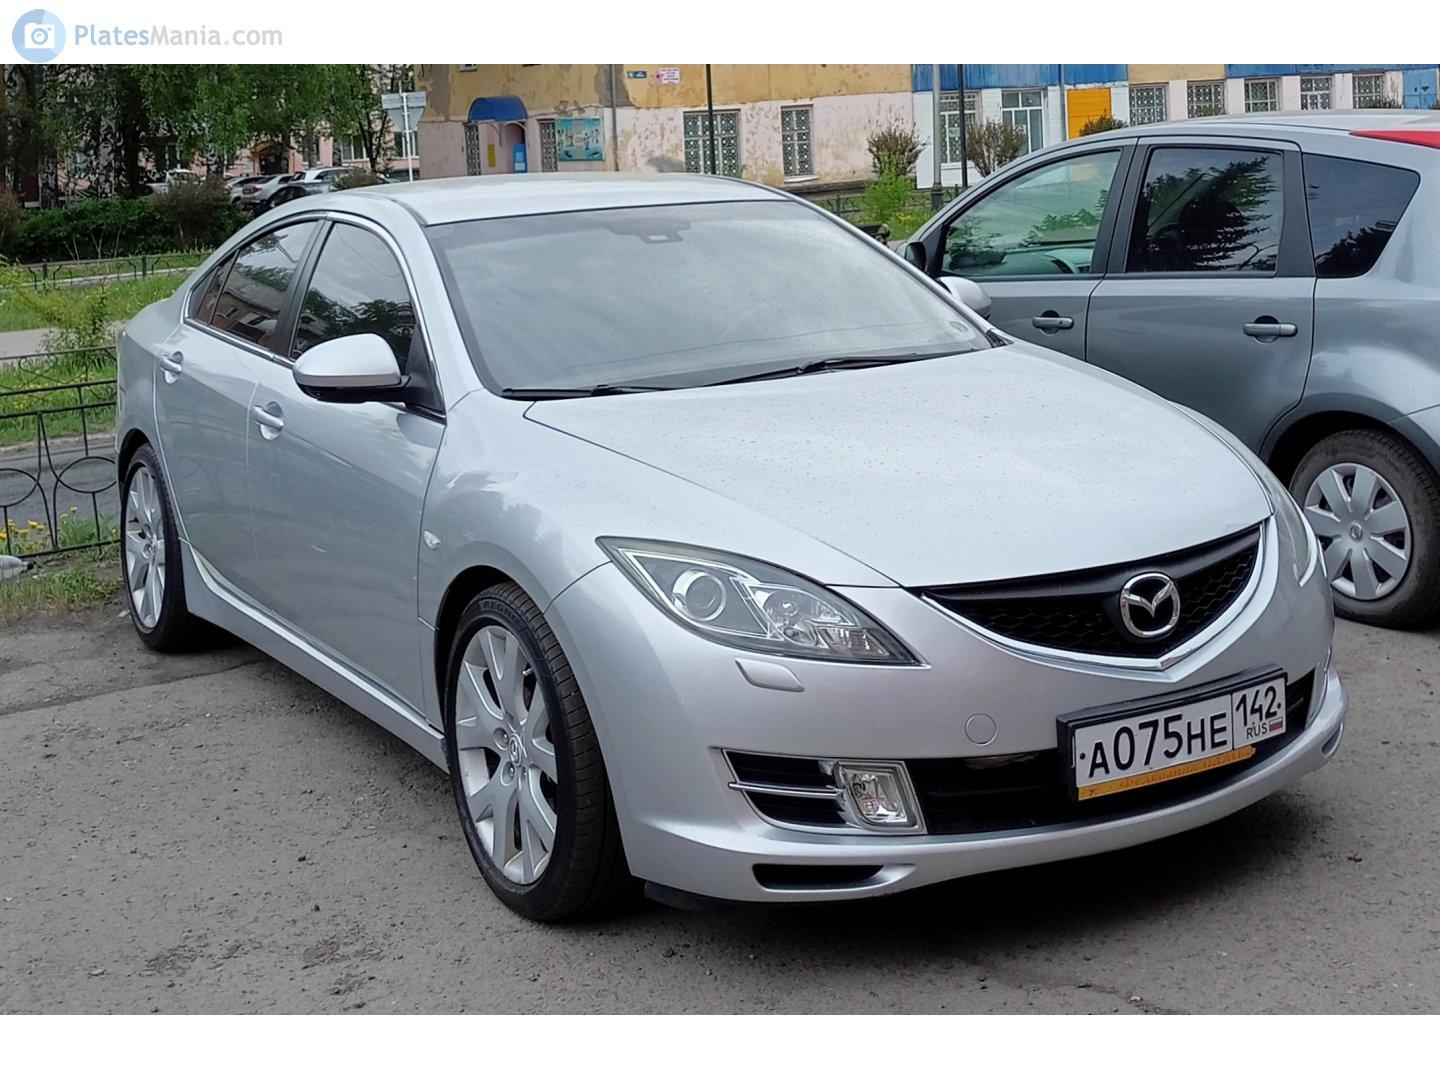license-plateSW: (1069, 676, 1288, 793)
